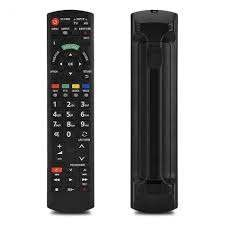remote control: (131, 11, 182, 213), (46, 10, 96, 212)
